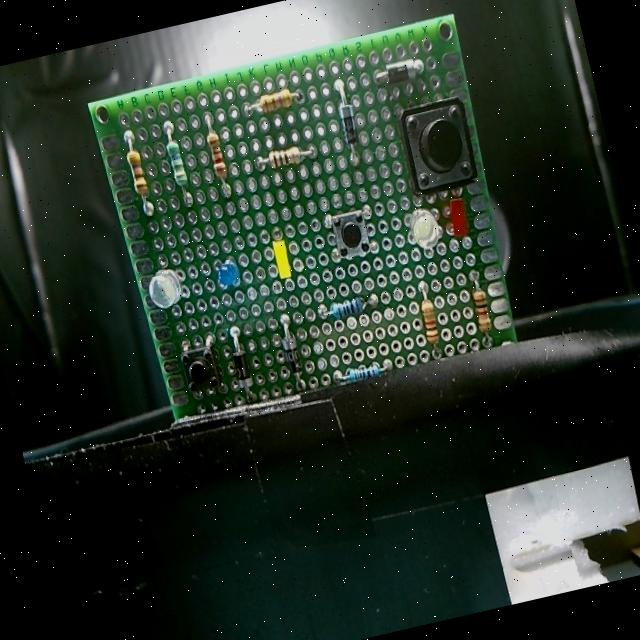diode: (228, 342, 256, 396), (277, 330, 304, 380), (334, 102, 362, 150), (380, 58, 420, 87)
led: (144, 266, 188, 312), (404, 205, 444, 253), (443, 193, 473, 244), (213, 258, 244, 293), (271, 240, 294, 282)
resistor: (203, 127, 230, 187), (164, 136, 192, 192), (125, 148, 152, 202), (252, 86, 298, 116), (417, 295, 444, 346), (469, 288, 496, 338), (323, 296, 368, 324), (264, 144, 308, 172), (341, 362, 384, 389)
switch: (395, 94, 482, 200), (178, 344, 222, 399), (329, 207, 372, 259)
